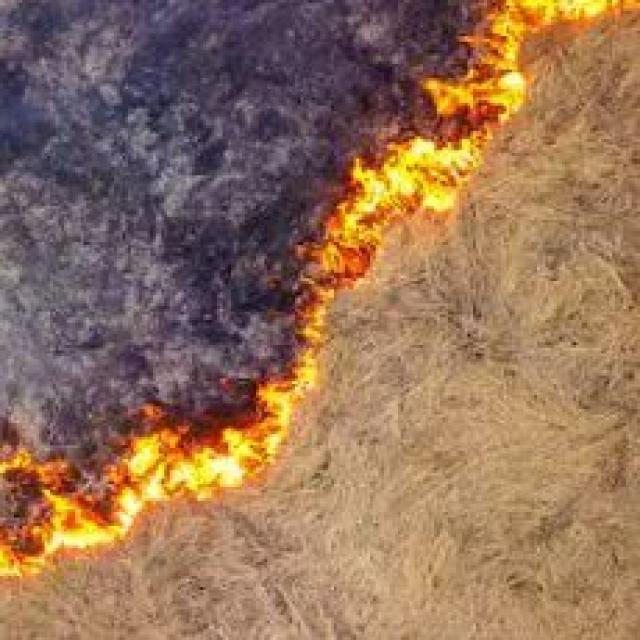Fire: (250, 0, 637, 431), (27, 436, 288, 566)
Smoke: (19, 0, 436, 491)
